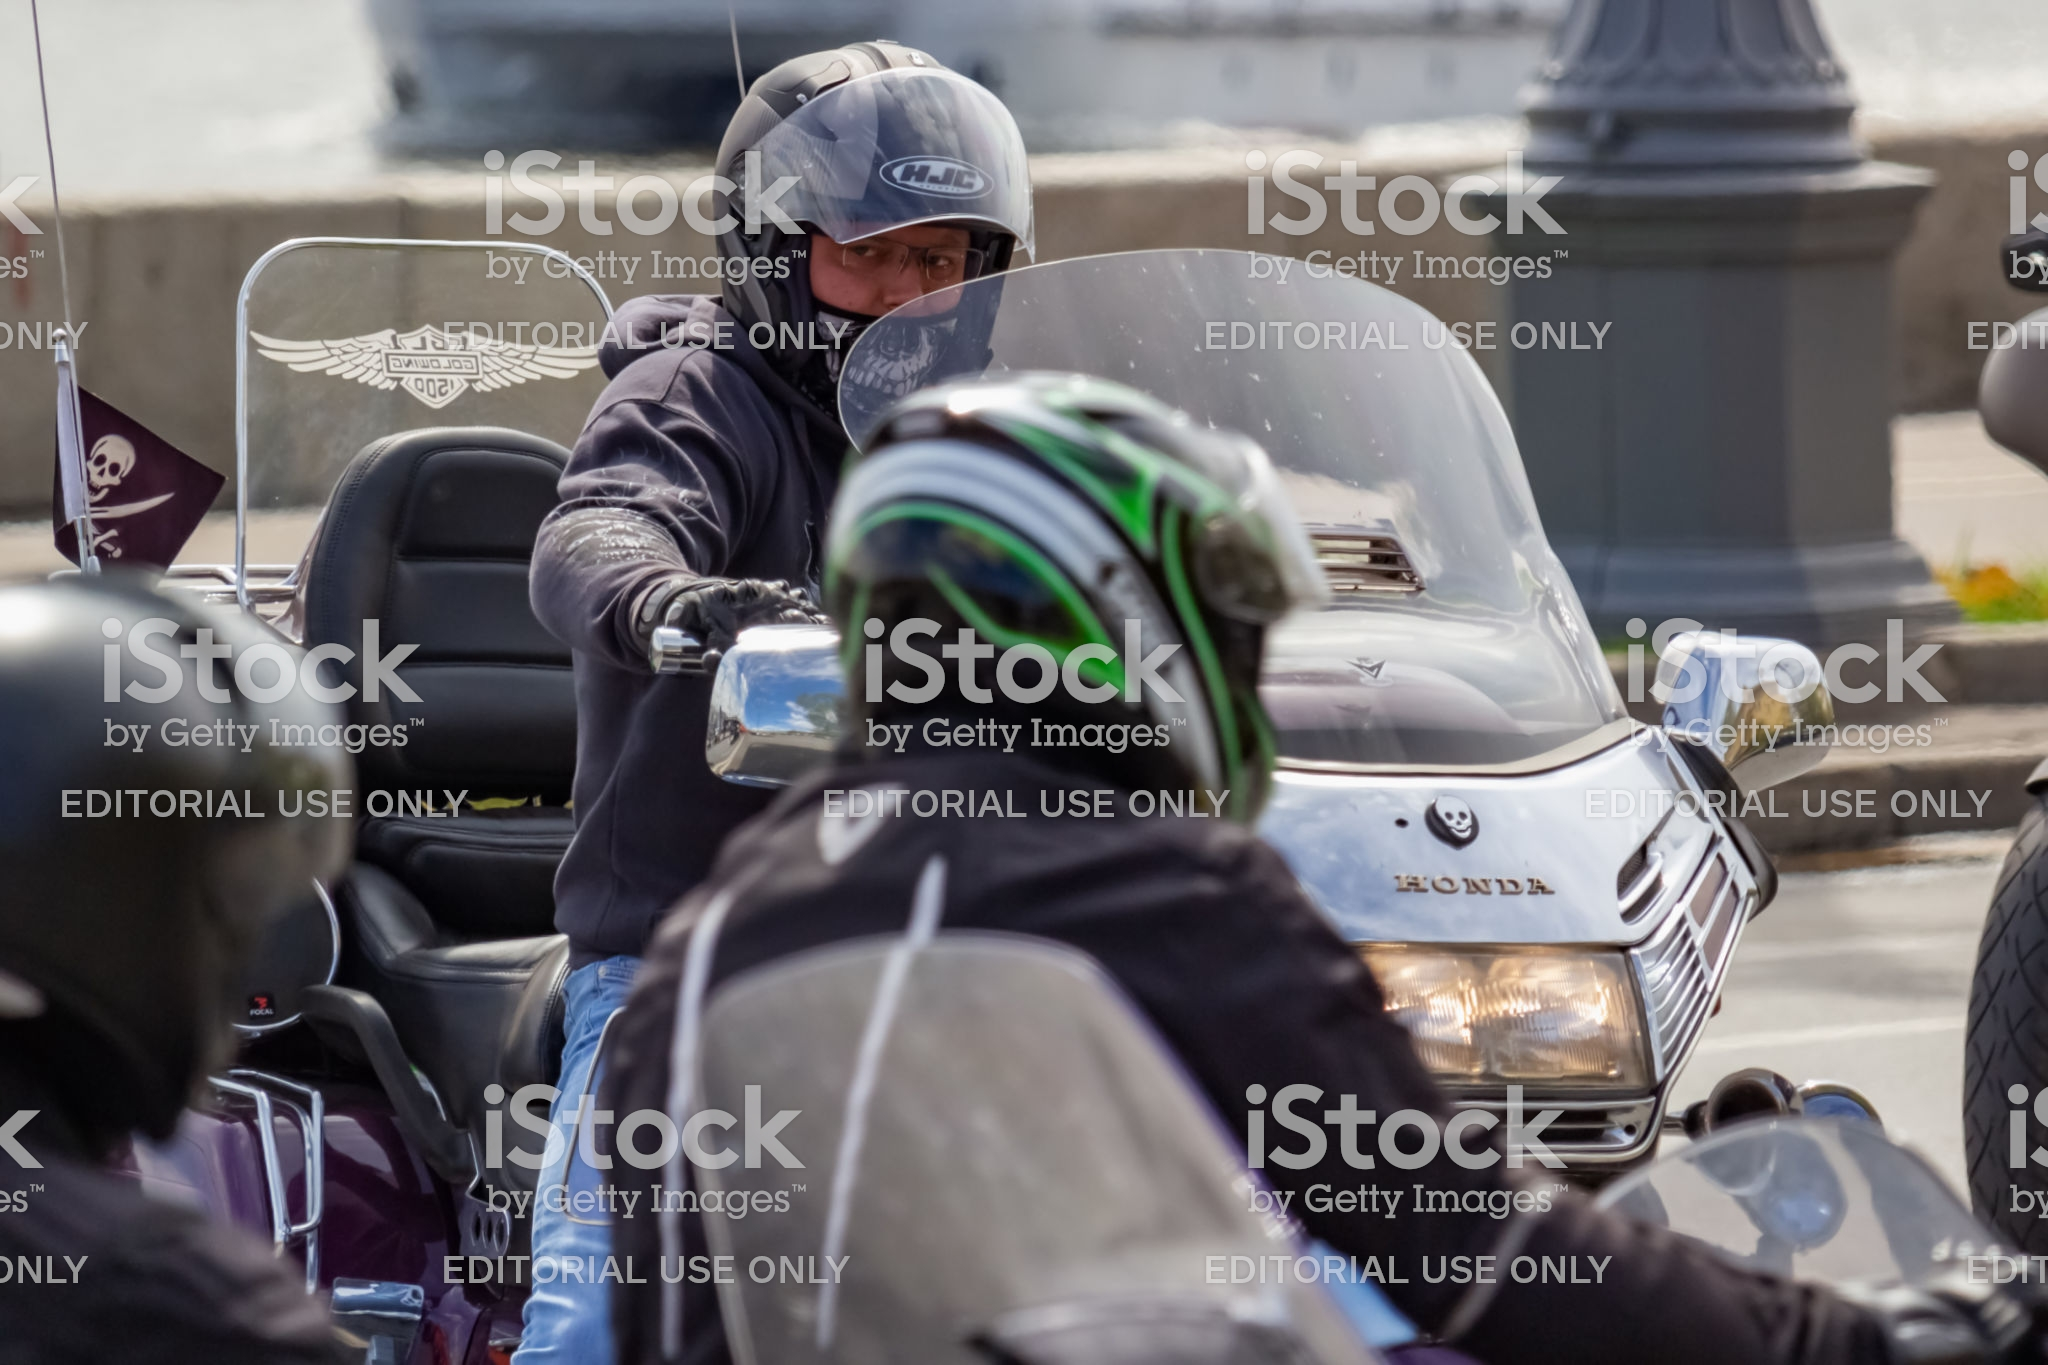helmet: (742, 43, 1035, 379)
